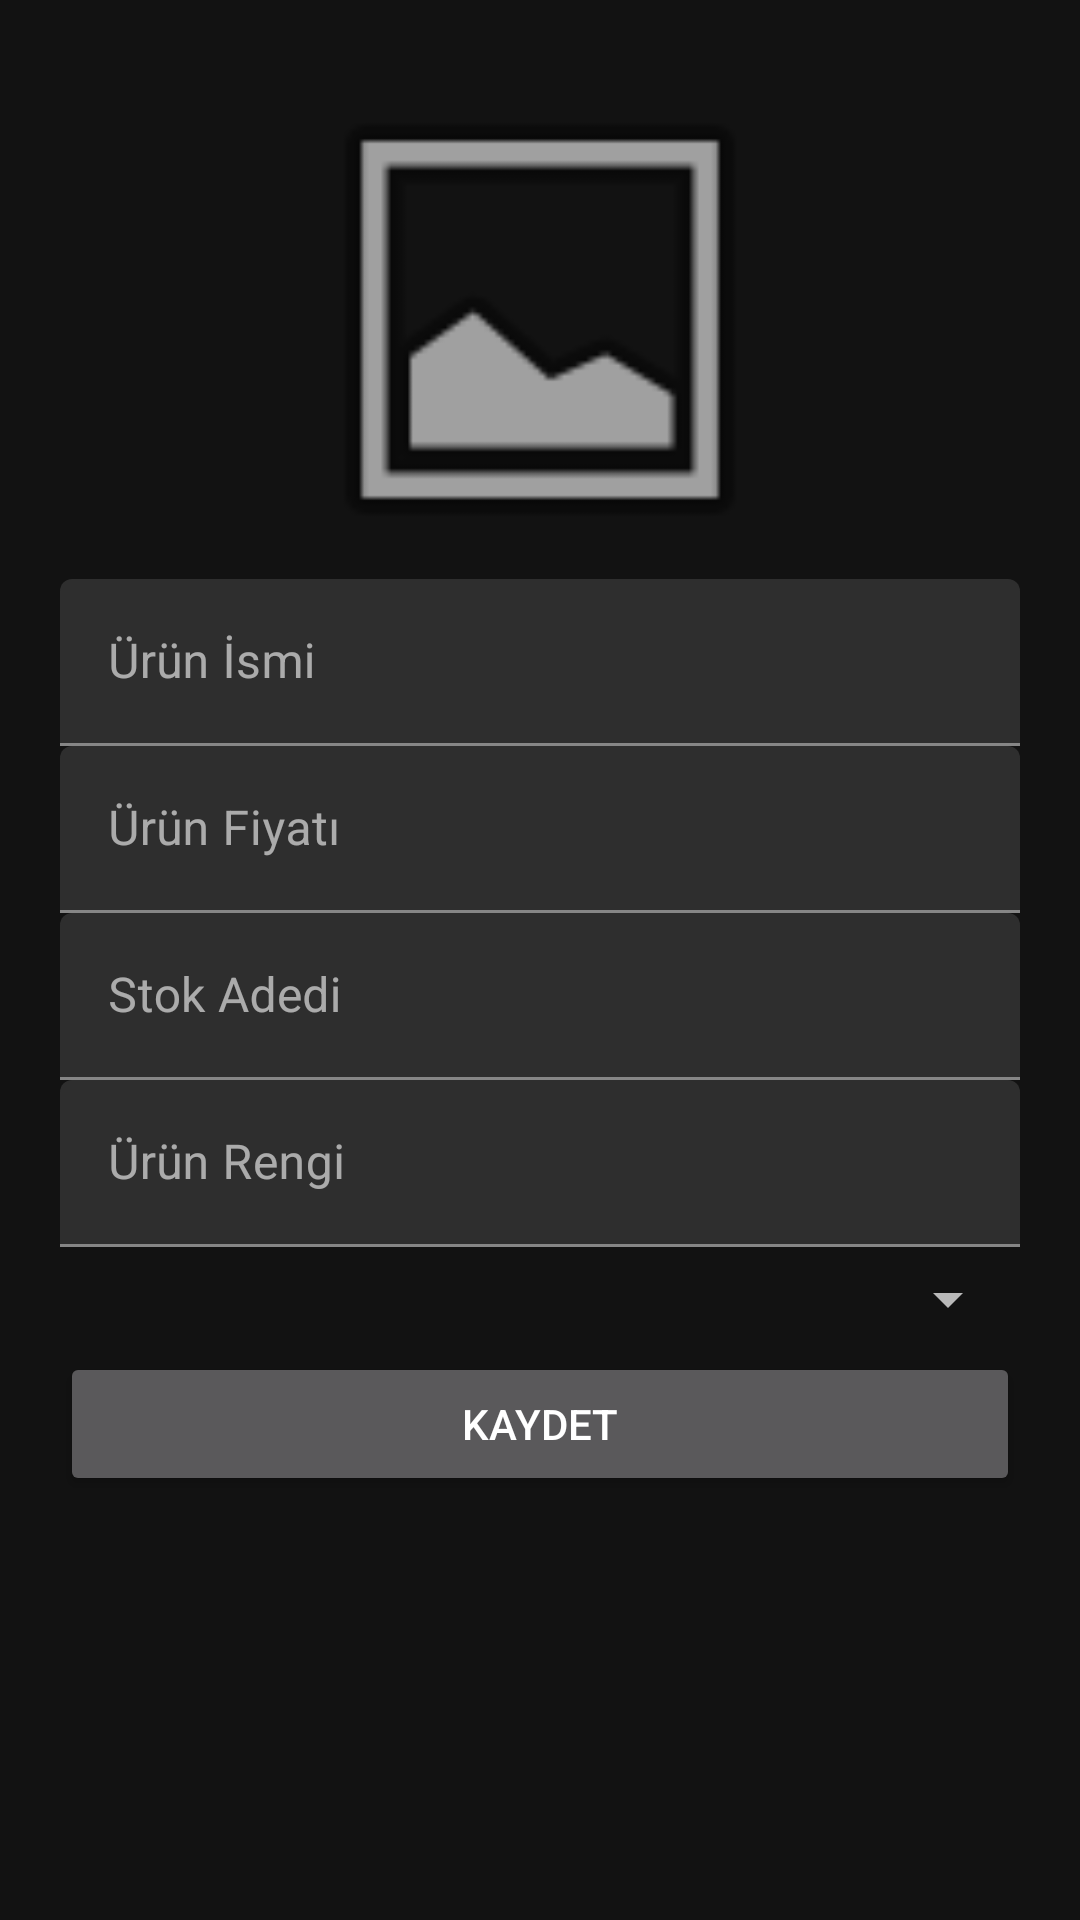

Screen size 1080 x 1920. Icon name, then its box in pixels as [left=x1, top=y1, right=x2, bottom=y2]:
gallery: [left=360, top=140, right=720, bottom=499]
